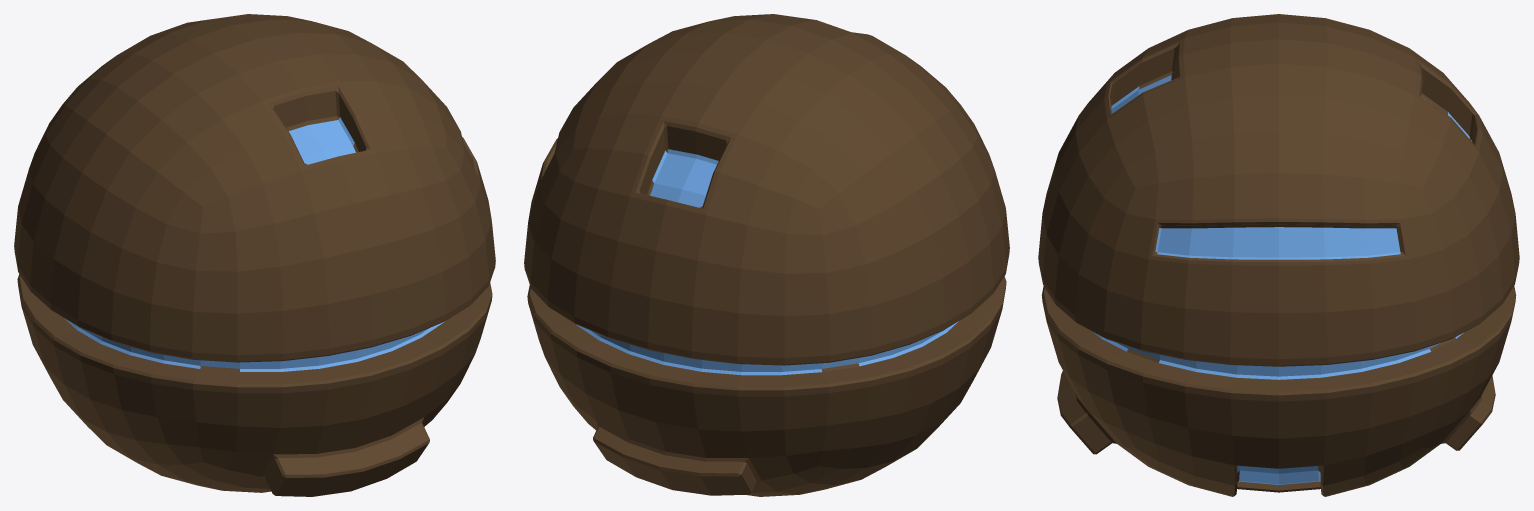
The model's file is BANZAAAI.fbx.
The picture shows the model from 3 angles, left to right: view 1: azimuth 30°, elevation 25°; view 2: azimuth 150°, elevation 25°; view 3: azimuth 270°, elevation 25°; orthographic projection.
Parts seen in each view (by area): view 1: Cube; view 2: Cube; view 3: Cube.
Part boxes in pixels (x1,y1,x2,y2): Cube: [14, 14, 495, 496]; Cube: [524, 14, 1009, 496]; Cube: [1038, 14, 1519, 496].
Bounding box in the file's own units: 168 × 168 × 168.
